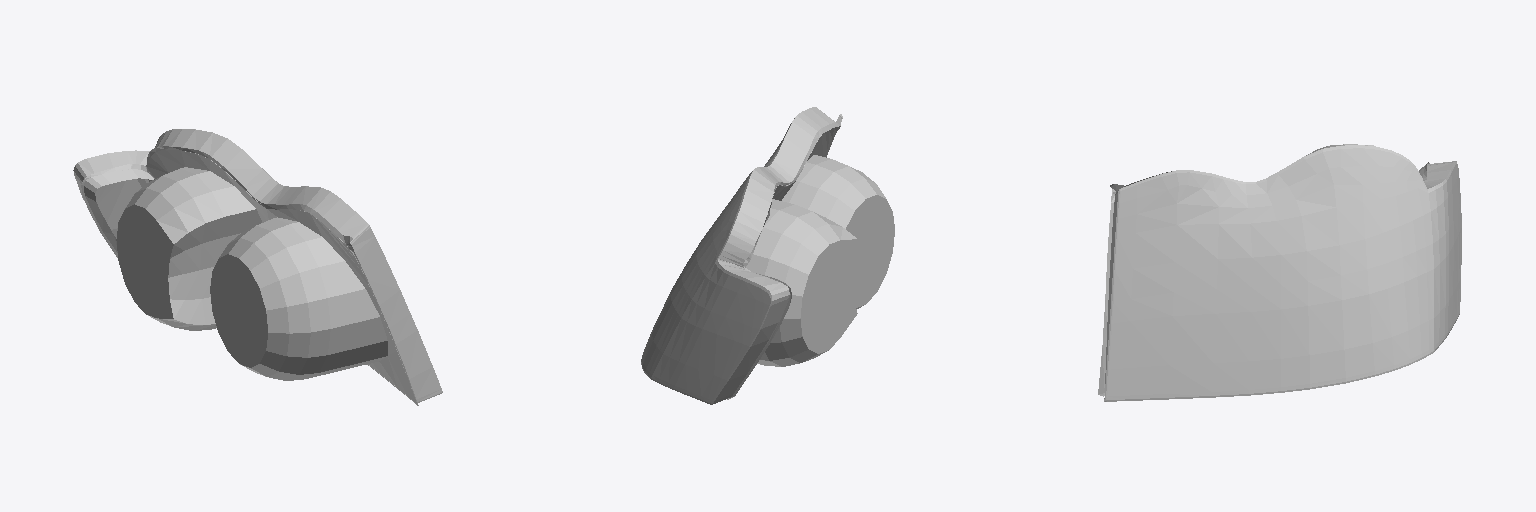
The picture shows the model from 3 angles: view 1: azimuth 30°, elevation 25°; view 2: azimuth 150°, elevation 25°; view 3: azimuth 270°, elevation 25°; orthographic projection.
Visible parts, largest first — view 1: J732_061B_L_J732_061B_L_2_N, J732_061B_L_1_N_J732_061B_L, J732_061B_L_J732_061B_L_6_DTaSI, J732_061B_L_J732_061B_L_4_DaS, J732_061B_L_J732_061B_L_7_D, J732_061B_L_J732_061B_L_3_N, J732_061B_L_J732_061B_L_5_D; view 2: J732_061B_L_J732_061B_L_6_DTaSI, J732_061B_L_1_N_J732_061B_L, J732_061B_L_J732_061B_L_2_N, J732_061B_L_J732_061B_L_7_D, J732_061B_L_J732_061B_L_4_DaS; view 3: J732_061B_L_J732_061B_L_6_DTaSI, J732_061B_L_J732_061B_L_7_D.
Part boxes in pixels (x1,y1,x2,y2): J732_061B_L_J732_061B_L_2_N: (210,217,387,380); J732_061B_L_1_N_J732_061B_L: (116,167,261,330); J732_061B_L_J732_061B_L_6_DTaSI: (73,129,442,402); J732_061B_L_J732_061B_L_4_DaS: (145,149,416,402); J732_061B_L_J732_061B_L_7_D: (81,146,418,405); J732_061B_L_J732_061B_L_3_N: (95,178,146,238); J732_061B_L_J732_061B_L_5_D: (83,169,153,252); J732_061B_L_J732_061B_L_6_DTaSI: (641,107,838,404); J732_061B_L_1_N_J732_061B_L: (746,199,857,366); J732_061B_L_J732_061B_L_2_N: (782,155,894,308); J732_061B_L_J732_061B_L_7_D: (727,114,842,399); J732_061B_L_J732_061B_L_4_DaS: (765,126,840,220); J732_061B_L_J732_061B_L_6_DTaSI: (1104,145,1461,401); J732_061B_L_J732_061B_L_7_D: (1098,144,1429,396).
Size of the model in its own units: 28.96 by 28.95 by 45.78.